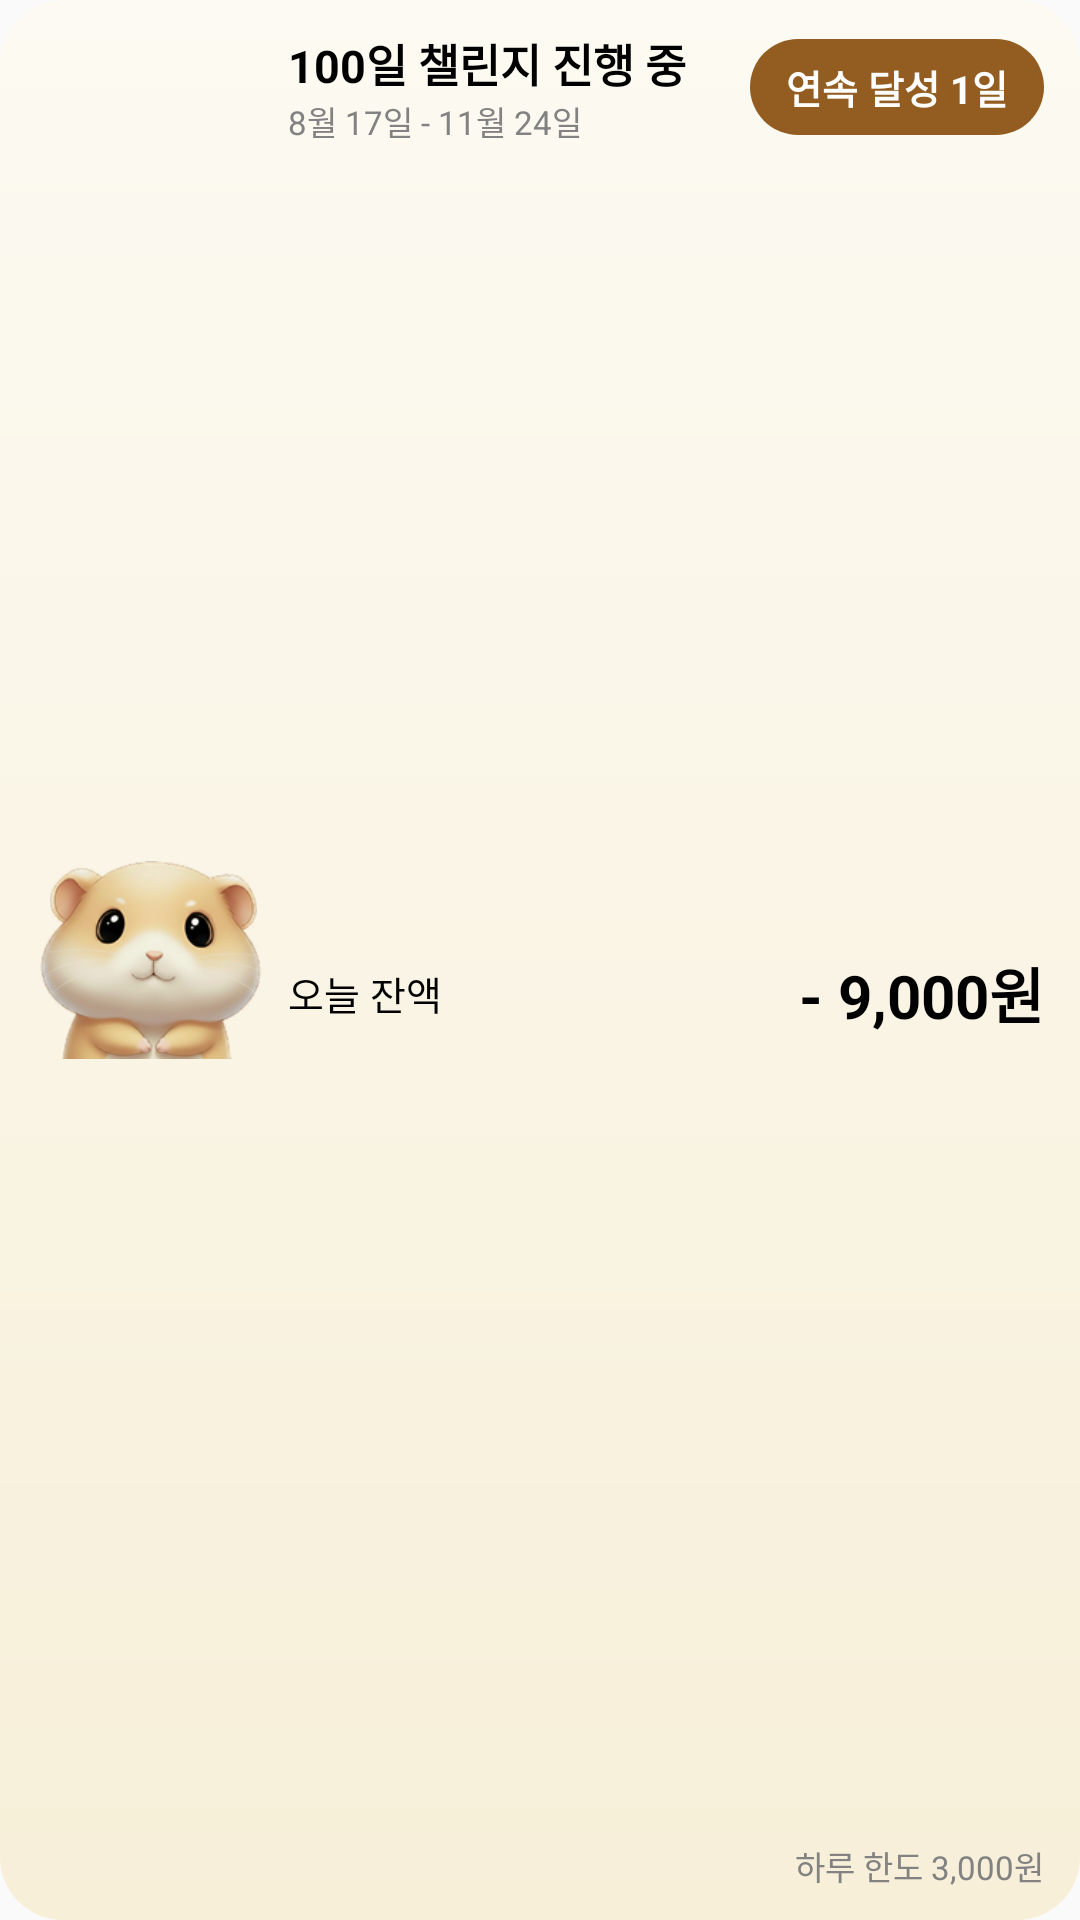

Where to tap for icons on this 1080*1920 app screen, as point (x, y):
햄포치 캐릭터: point (150, 960)
